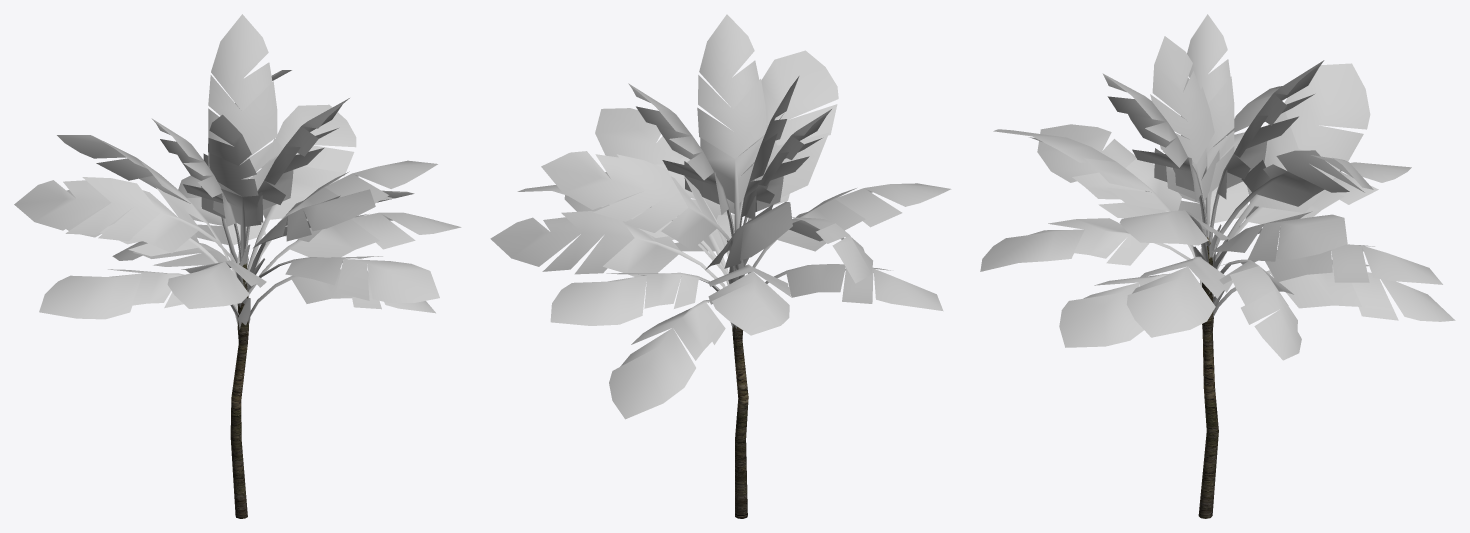
File: zhiwu07.fbx
3 renders of one model, left to right at view 1: azimuth 30°, elevation 25°; view 2: azimuth 150°, elevation 25°; view 3: azimuth 270°, elevation 25°, orthographic. The views are drawn at different scales.
Visible parts, largest first — view 1: zhiwu07; view 2: zhiwu07; view 3: zhiwu07.
Boxes of the visible parts, left/top/right/bottom form: zhiwu07: left=14, top=14, right=461, bottom=518; zhiwu07: left=490, top=14, right=951, bottom=518; zhiwu07: left=980, top=14, right=1455, bottom=518.
Bounding box in the file's own units: 28.31 × 29.7 × 26.34.
